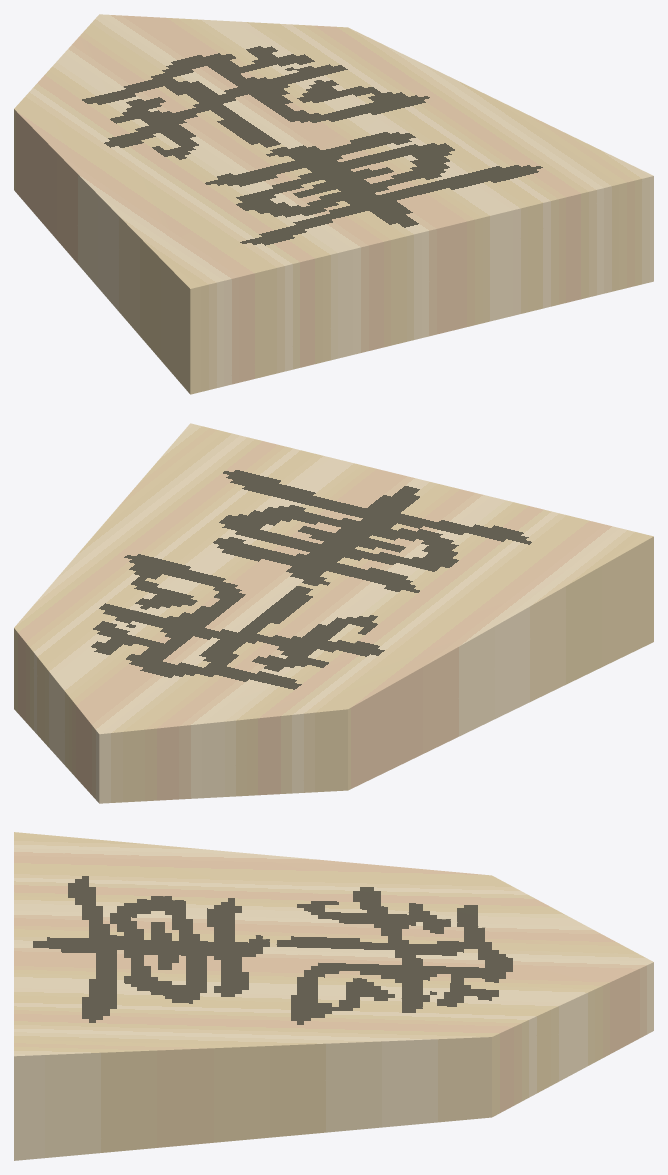
File: 01b7_Hisha.glb
3 renders of one model, top to bottom at view 1: azimuth 30°, elevation 25°; view 2: azimuth 150°, elevation 25°; view 3: azimuth 270°, elevation 25°, orthographic.
Visible parts, largest first — view 1: part_0; view 2: part_0; view 3: part_0.
Part boxes in pixels (<box>): part_0: <box>14,14,653,394</box>; part_0: <box>14,423,653,803</box>; part_0: <box>14,832,653,1160</box>.
Bounding box in the file's own units: 0.0266 × 0.00579 × 0.0321.
Materials: 1 (1 with a texture image).
